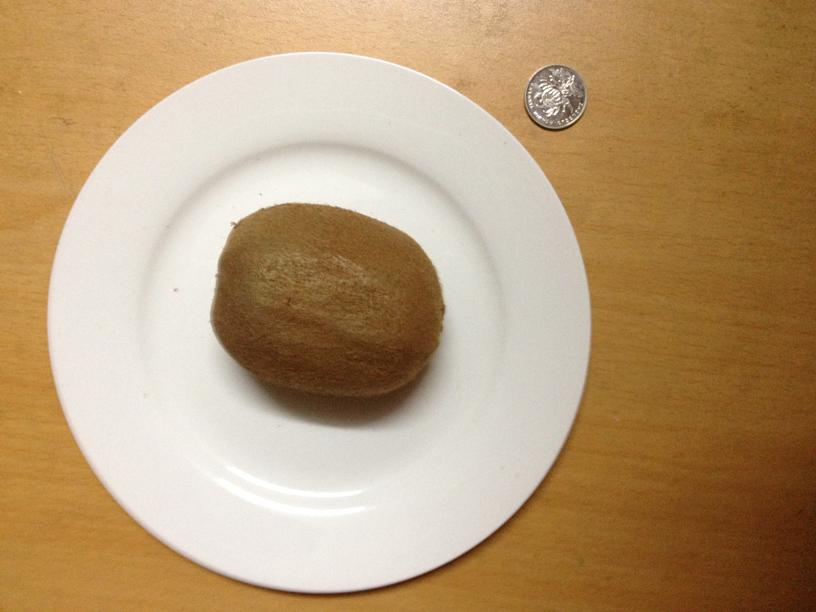coin: (523, 65, 588, 129)
qiwi: (209, 202, 442, 395)
